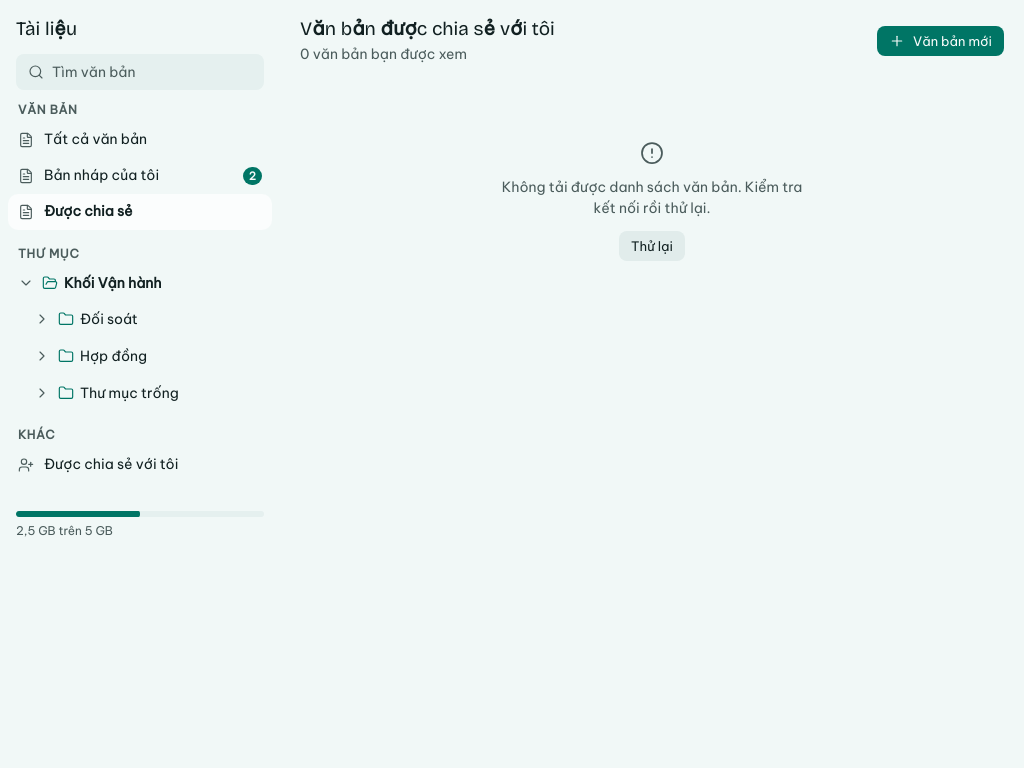
TextsScreen: states › says it could not load, and retries
Expected: the text "Không tải được danh sách văn bản" is shown, [502, 178, 802, 217]
Click the button "Thử lại" at (652, 246), box [619, 231, 685, 261]
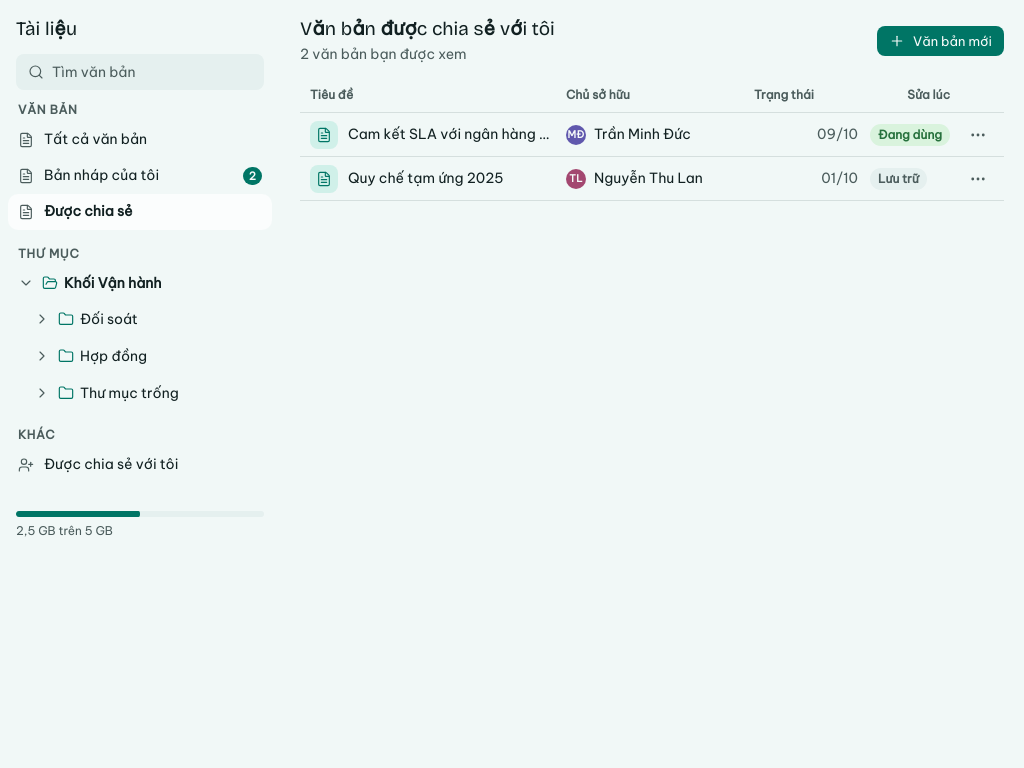
Now the link "Cam kết SLA với ngân hàng đối tác" is shown, box [348, 124, 554, 145]
